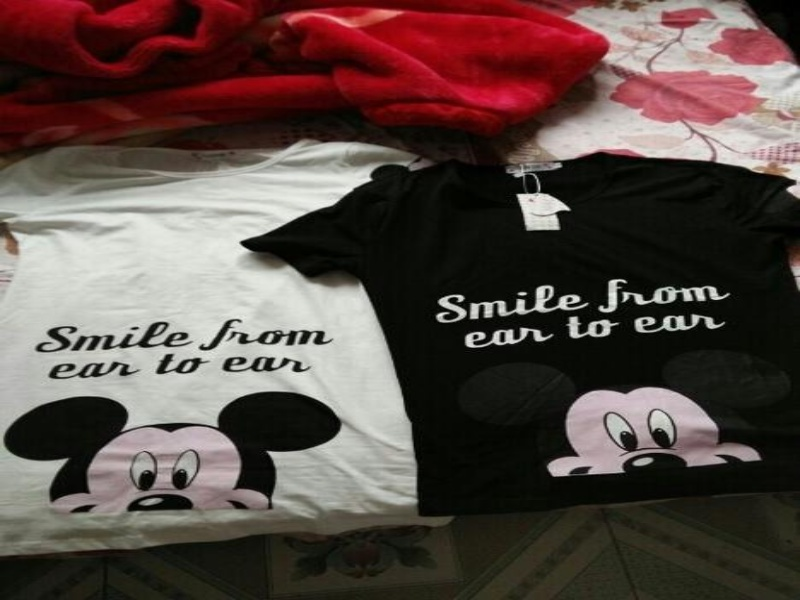short_sleeved_dress: (0, 136, 465, 567)
short_sleeved_shirt: (234, 148, 798, 521)
